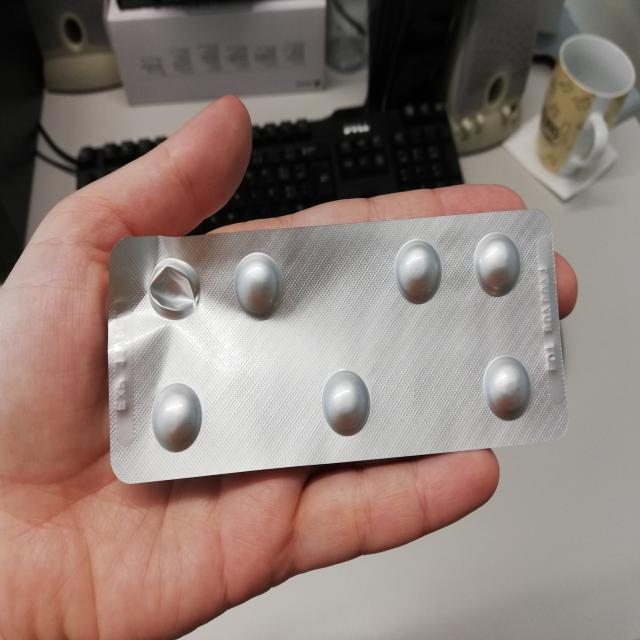Empty: (143, 252, 204, 324)
Pill: (148, 378, 206, 456), (480, 350, 538, 426), (319, 365, 375, 441), (469, 226, 525, 302), (229, 250, 283, 322), (393, 235, 446, 308)
